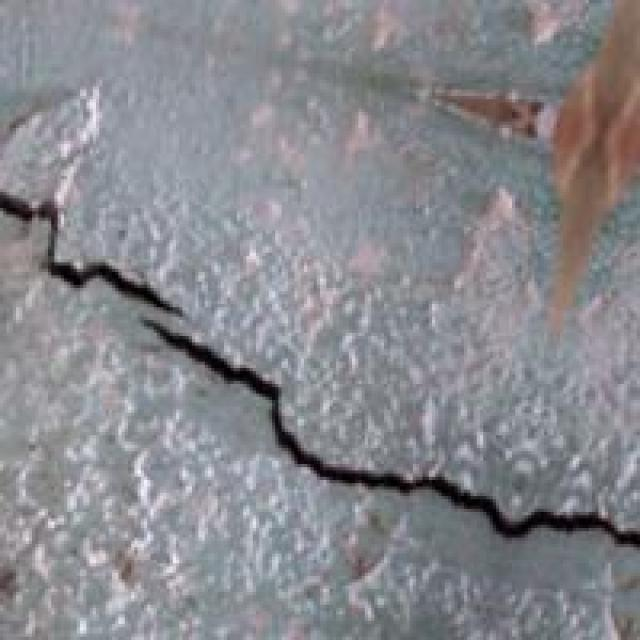Crack: (0, 157, 637, 579)
